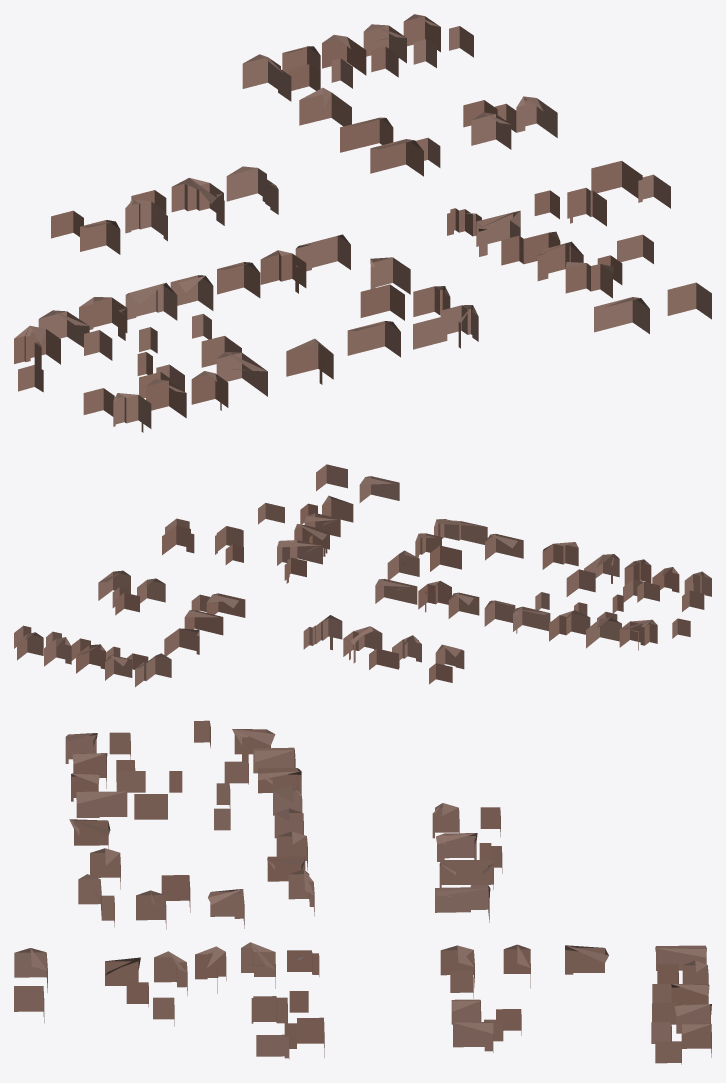
Rendered from c_1643_17829_buildings_residential.glb.
The picture shows the model from 3 angles, top to bottom: view 1: azimuth 30°, elevation 25°; view 2: azimuth 150°, elevation 25°; view 3: azimuth 270°, elevation 25°; orthographic projection. The views are drawn at different scales.
Visible parts, largest first — view 1: geometry_0; view 2: geometry_0; view 3: geometry_0.
Part boxes in pixels (bbox=[...]): geometry_0: bbox=[14, 14, 711, 432]; geometry_0: bbox=[14, 464, 711, 687]; geometry_0: bbox=[14, 720, 711, 1064].
Size of the model in its own units: 258 by 10.94 by 233.
